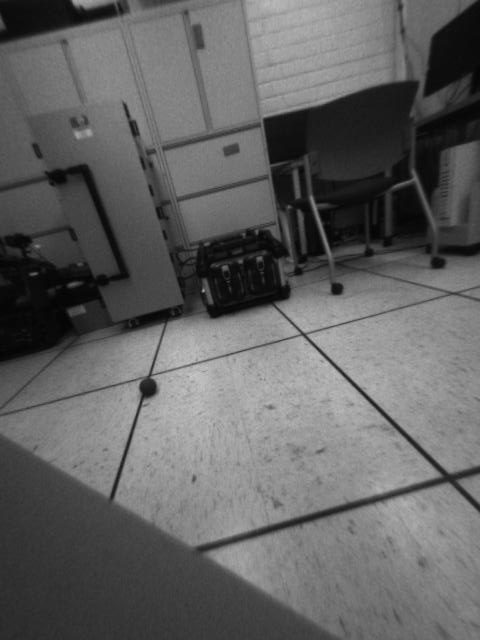dogtoy: (125, 369, 169, 404)
